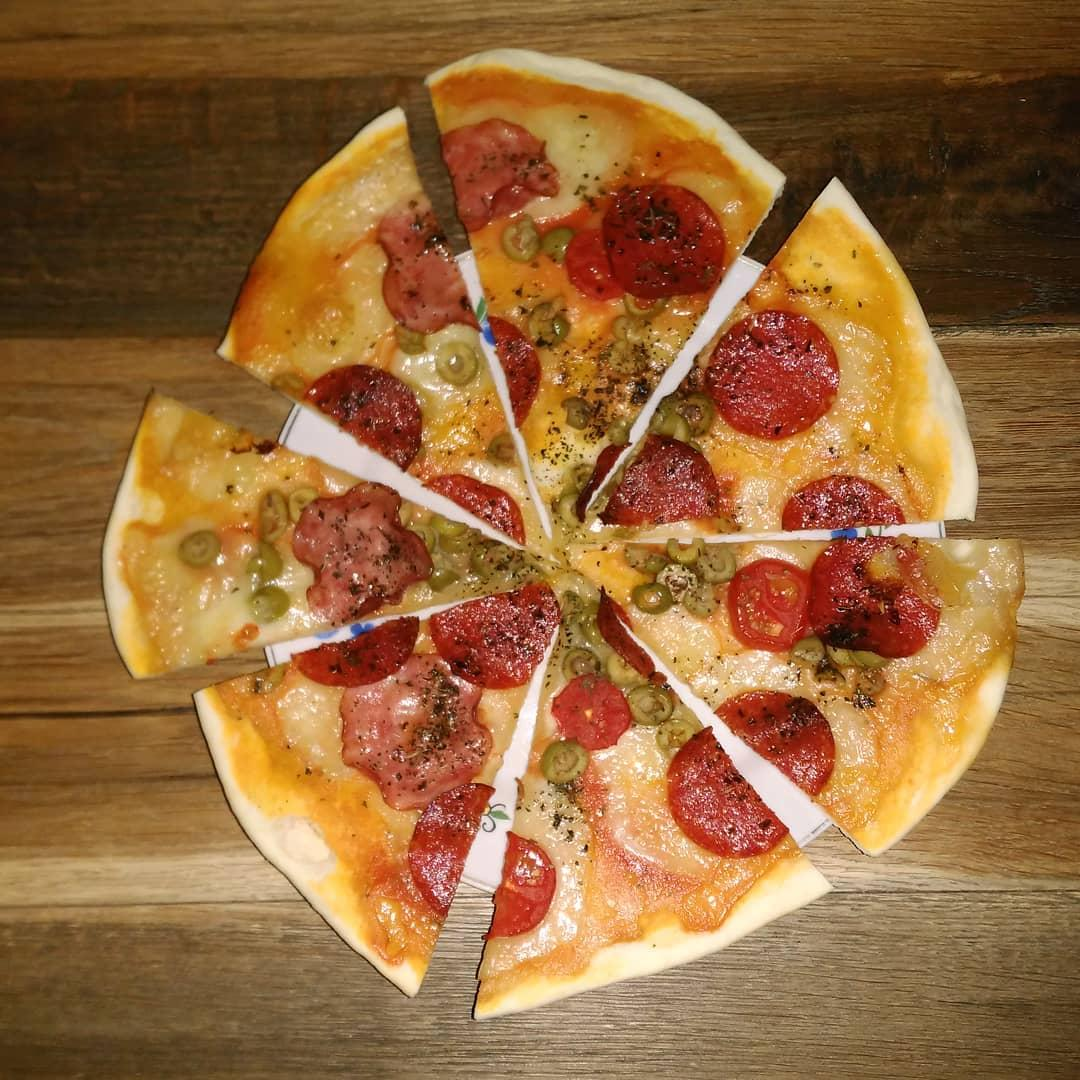Olives: (825, 637, 900, 701), (651, 394, 718, 453), (600, 311, 657, 372), (536, 733, 597, 782), (247, 483, 299, 538), (625, 683, 679, 731), (494, 216, 545, 262), (478, 425, 524, 476), (391, 511, 443, 556), (245, 580, 298, 623), (559, 452, 608, 498), (658, 556, 700, 608), (281, 478, 324, 526), (562, 391, 605, 436), (472, 539, 512, 587), (659, 715, 702, 759), (434, 342, 483, 380), (547, 489, 582, 542), (683, 580, 727, 622), (528, 302, 573, 341), (175, 530, 221, 568), (247, 539, 283, 586), (559, 647, 613, 678), (700, 542, 737, 587), (659, 536, 705, 571), (414, 553, 459, 588), (623, 286, 673, 317), (634, 580, 679, 614), (784, 633, 829, 667), (392, 320, 432, 358), (578, 594, 608, 643), (620, 534, 660, 567), (556, 580, 587, 622), (503, 555, 548, 583), (598, 414, 635, 446), (541, 214, 570, 254), (436, 511, 467, 537)
Pepperoni: (667, 683, 845, 870), (292, 480, 439, 611), (339, 667, 489, 793), (715, 309, 843, 448), (305, 366, 443, 482), (606, 172, 727, 297), (823, 532, 948, 653), (431, 117, 555, 229), (374, 202, 469, 338), (586, 444, 722, 528), (417, 779, 502, 912), (433, 598, 554, 689), (780, 470, 911, 536), (430, 464, 528, 545), (491, 829, 563, 938), (297, 628, 427, 684), (491, 314, 547, 416)
Pizza: (113, 43, 999, 1013)
Tomatoes: (559, 205, 635, 312), (733, 559, 810, 658), (552, 676, 643, 753)
